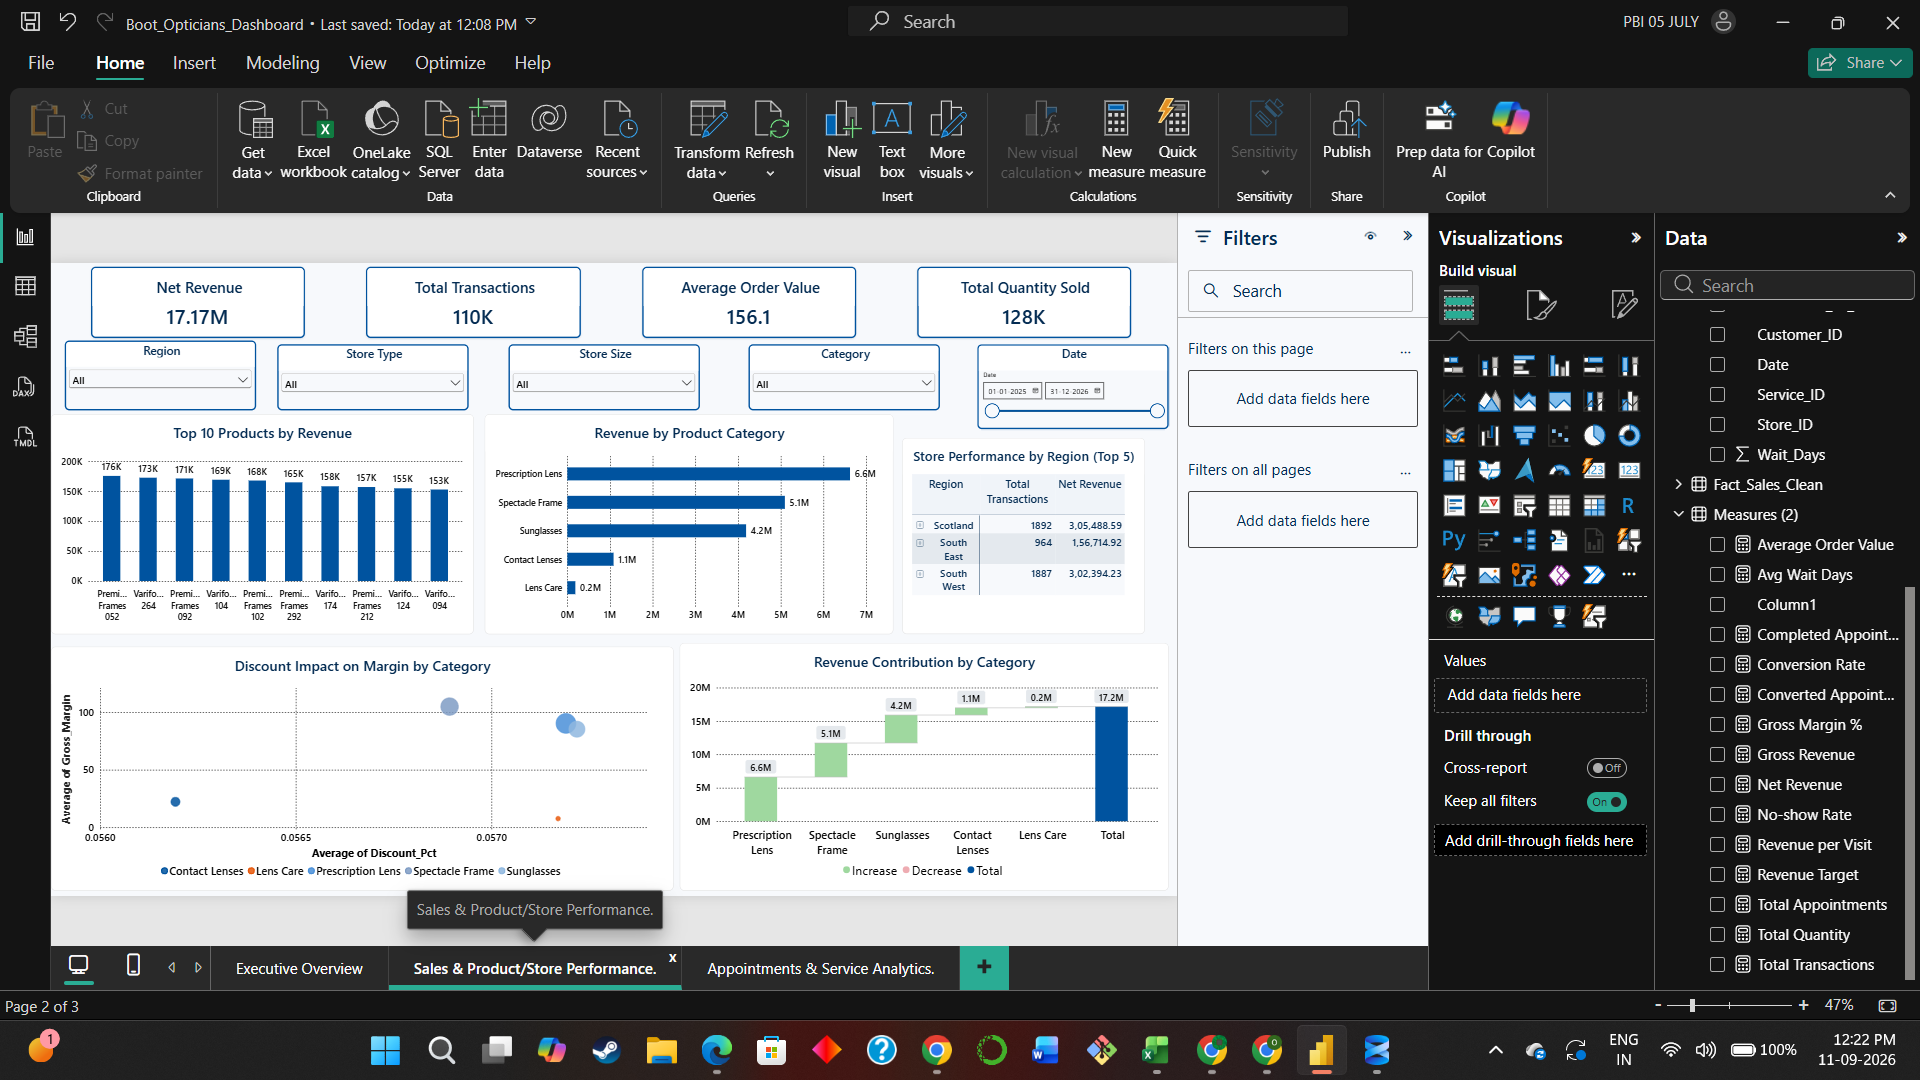

What the dashboard file says about the page in this screenshot:
{"tool":"powerbi","page":{"name":"Sales & Product/Store Performance.","canvas":[1920,1080],"ordinal":1},"visuals":[{"type":"clusteredColumnChart","title":"Top 10 Products by Revenue","fields":{"Category":["Dim_Product.Product_Name"],"Y":["Measures (2).Net Revenue"]},"box":[0,257.9,720.4,375.1],"z":0},{"type":"clusteredBarChart","title":"Revenue by Product Category","fields":{"Category":["Fact_Sales_Clean.Category"],"Y":["Sum(Fact_Sales_Clean.Net_Revenue)"]},"box":[739.6,257.9,697,375.1],"z":1000},{"type":"pivotTable","title":"Store Performance by Region (Top 5)","fields":{"Rows":["Dim_Store.Region","Dim_Store.Store_Name"],"Values":["Measures (2).Total Transactions","Measures (2).Net Revenue"]},"box":[1451.5,298.4,413.5,334.6],"z":2000},{"type":"scatterChart","title":"Discount Impact on Margin by Category","fields":{"Series":["Dim_Product.Category"],"Size":["Sum(Fact_Sales_Clean.Net_Revenue)"],"X":["Avg(Fact_Sales_Clean.Discount_Pct)"],"Y":["Avg(Fact_Sales_Clean.Gross_Margin)"]},"box":[0,654.4,1061.5,415.6],"z":3000},{"type":"slicer","title":"Region","fields":{"Values":["Dim_Store.Region"]},"box":[23.4,132.1,326.1,119.4],"z":4000},{"type":"slicer","title":"Store Type","fields":{"Values":["Dim_Store.Store_Type"]},"box":[385.8,138.6,326.1,113],"z":5000},{"type":"slicer","title":"Date","fields":{"Values":["Dim_Date.Date"]},"box":[1579.4,138.6,326.1,144.9],"z":6000},{"type":"waterfallChart","title":"Revenue Contribution by Category","fields":{"Category":["Dim_Product.Category"],"Y":["Sum(Fact_Sales_Clean.Net_Revenue)"]},"box":[1072.1,648,833.4,422],"z":7000},{"type":"slicer","title":"Store Size","fields":{"Values":["Dim_Store.Store_Size"]},"box":[780.1,138.6,326.1,113],"z":8000},{"type":"slicer","title":"Category","fields":{"Values":["Fact_Sales_Clean.Category"]},"box":[1189.3,138.6,326.1,113],"z":9000},{"type":"card","title":"Net Revenue ","fields":{"Values":["Measures (2).Net Revenue"]},"box":[68.2,6.6,364.5,121.5],"z":10000},{"type":"card","title":"Total Transactions","fields":{"Values":["Measures (2).Total Transactions"]},"box":[537.1,6.6,366.6,121.5],"z":11000},{"type":"card","title":"Average Order Value","fields":{"Values":["Measures (2).Average Order Value"]},"box":[1008.2,6.6,364.5,121.5],"z":12000},{"type":"card","title":"Total Quantity Sold","fields":{"Values":["Measures (2).Total Quantity"]},"box":[1477.1,6.6,364.5,121.5],"z":13000}]}

Visuals, with their boxes on the page's 1920x1080 design canvas (x1, y1, x2, y2). These are canvas units, not pixel positions in the 1920x1080 screenshot, which may show the page scaled, cropped or inside an application window:
"Top 10 Products by Revenue" clusteredColumnChart: <bbox>0, 258, 720, 633</bbox>
"Revenue by Product Category" clusteredBarChart: <bbox>740, 258, 1437, 633</bbox>
"Store Performance by Region (Top 5)" pivotTable: <bbox>1452, 298, 1865, 633</bbox>
"Discount Impact on Margin by Category" scatterChart: <bbox>0, 654, 1062, 1070</bbox>
"Region" slicer: <bbox>23, 132, 350, 252</bbox>
"Store Type" slicer: <bbox>386, 139, 712, 252</bbox>
"Date" slicer: <bbox>1579, 139, 1906, 284</bbox>
"Revenue Contribution by Category" waterfallChart: <bbox>1072, 648, 1906, 1070</bbox>
"Store Size" slicer: <bbox>780, 139, 1106, 252</bbox>
"Category" slicer: <bbox>1189, 139, 1515, 252</bbox>
"Net Revenue " card: <bbox>68, 7, 433, 128</bbox>
"Total Transactions" card: <bbox>537, 7, 904, 128</bbox>
"Average Order Value" card: <bbox>1008, 7, 1373, 128</bbox>
"Total Quantity Sold" card: <bbox>1477, 7, 1842, 128</bbox>
